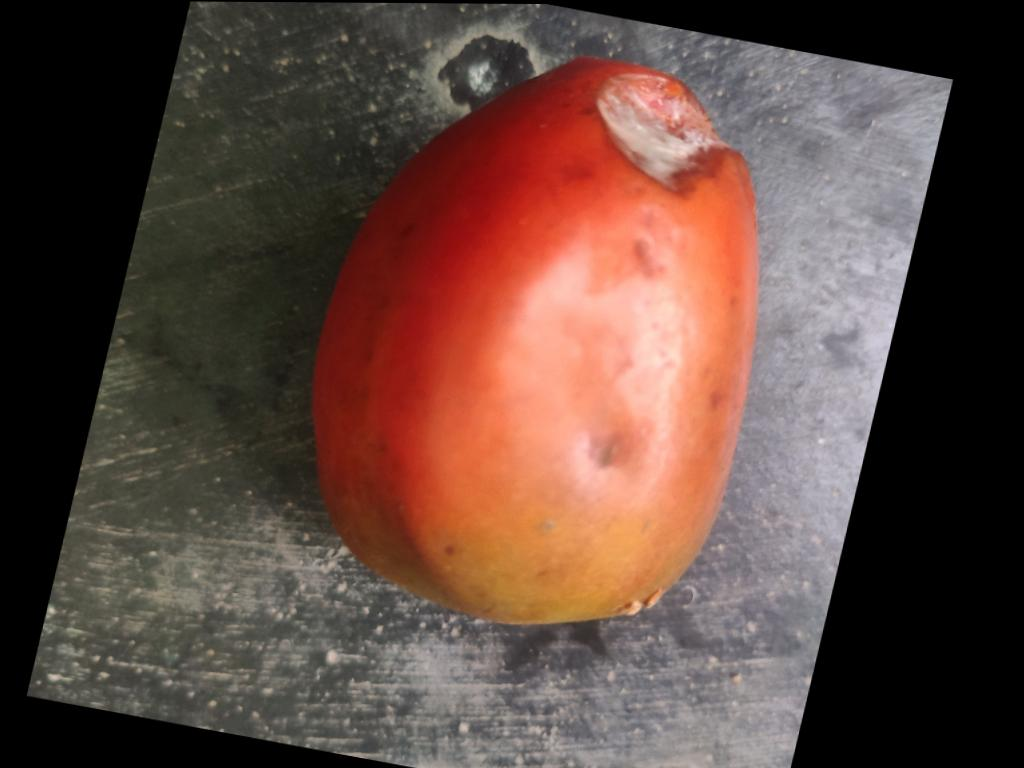rot_mold_decay: (596, 72, 723, 188)
tomato: (314, 57, 757, 623)
